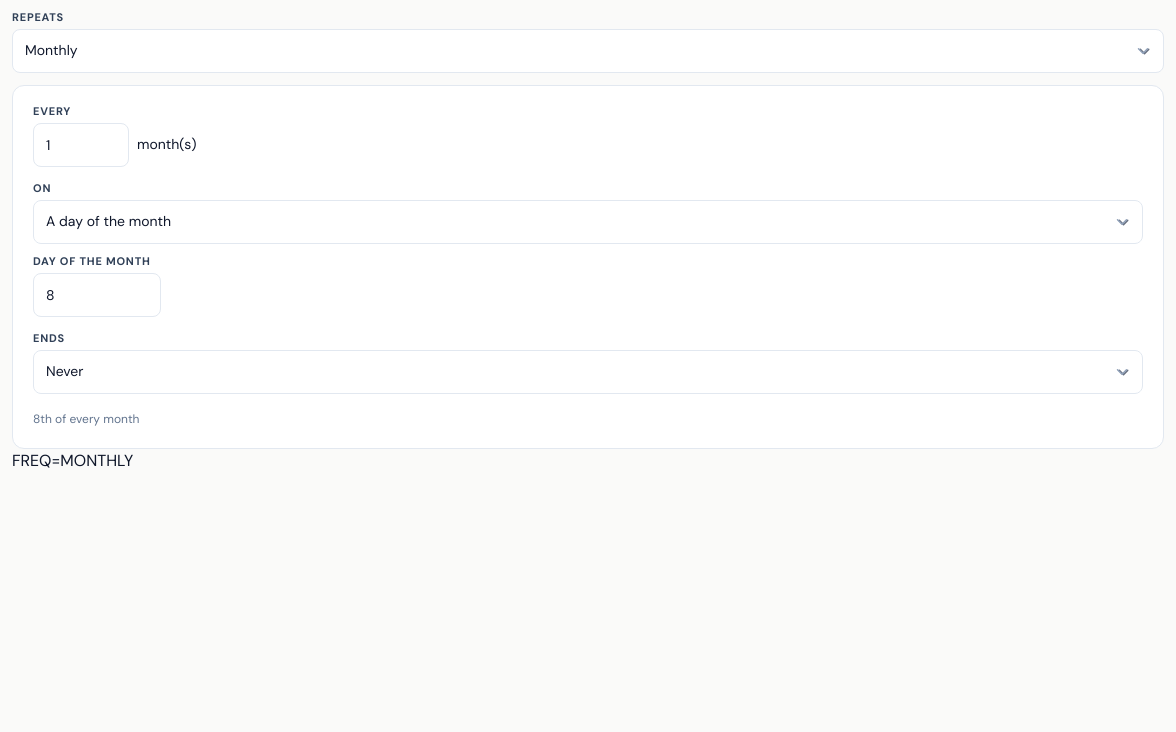
Test: RecurrenceControl › builds a monthly weekday rule from the start date
Select "A weekday of the month" in the dropdown labelled "On": (588, 222) [33,200,1143,244]
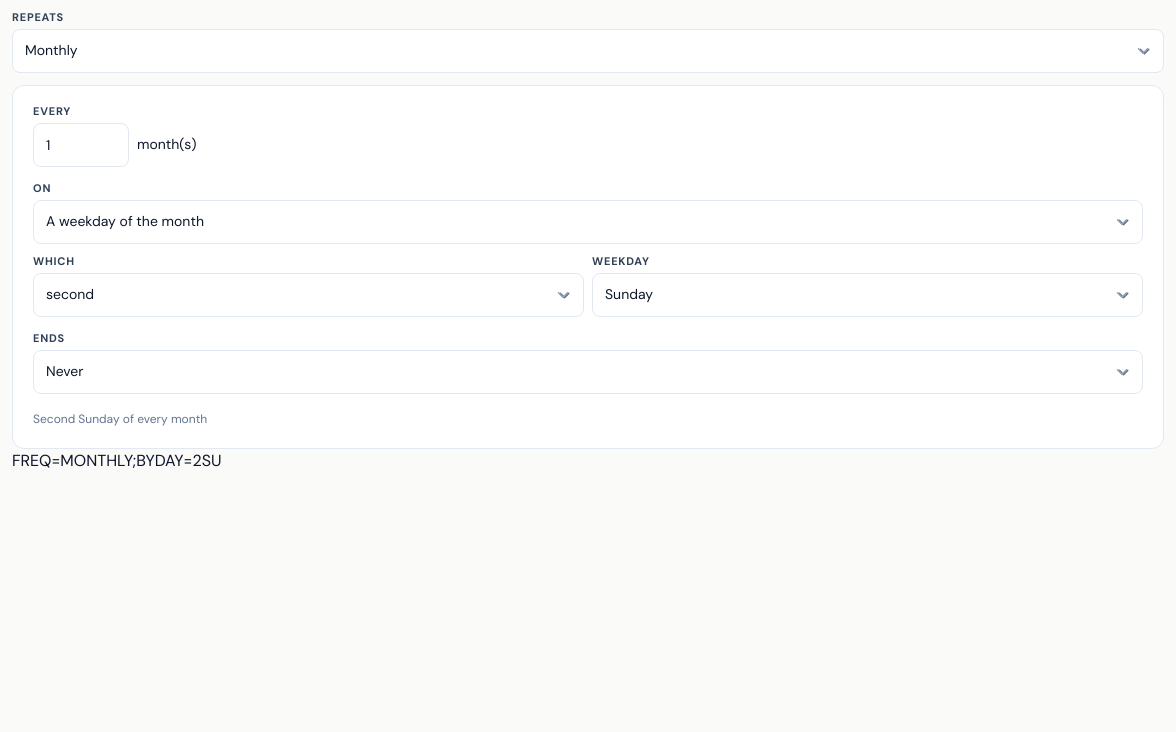
Result: the text with test id "rule" reads "FREQ=MONTHLY;BYDAY=2SU" at [12,450,221,471]
Select "last" in the dropdown labelled "Which": (308, 295) [33,273,584,317]
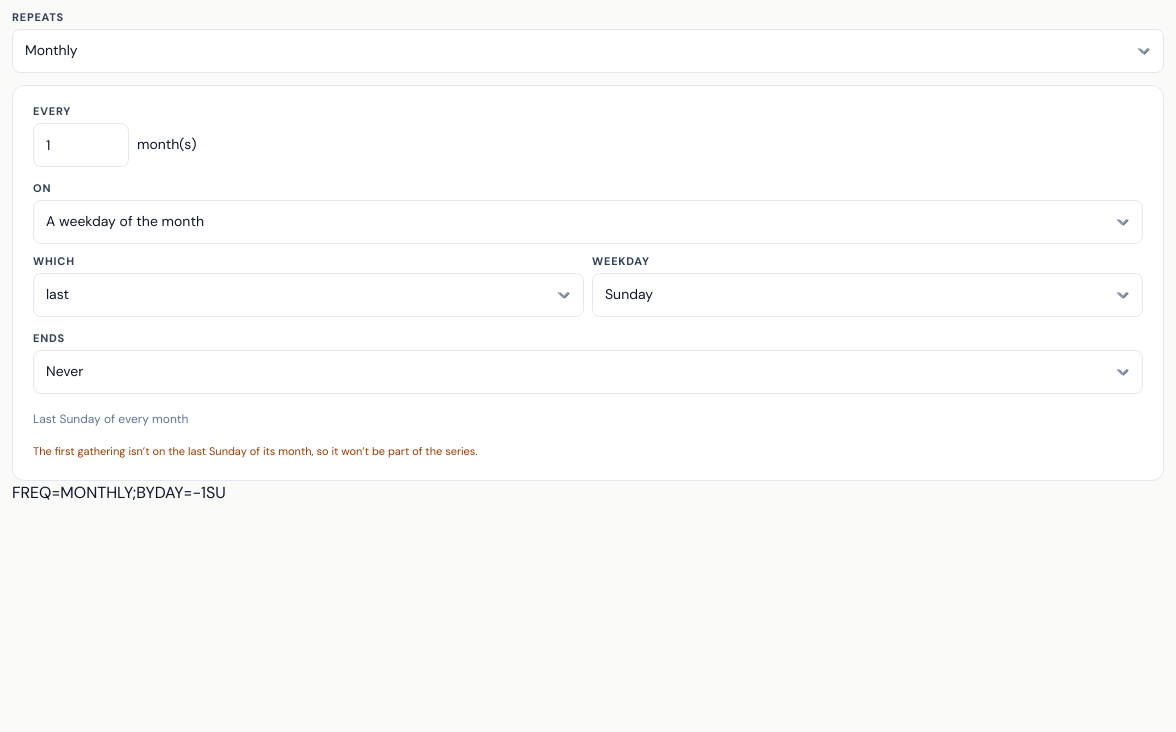
Result: the text with test id "rule" reads "FREQ=MONTHLY;BYDAY=-1SU" at [12,482,226,503]
